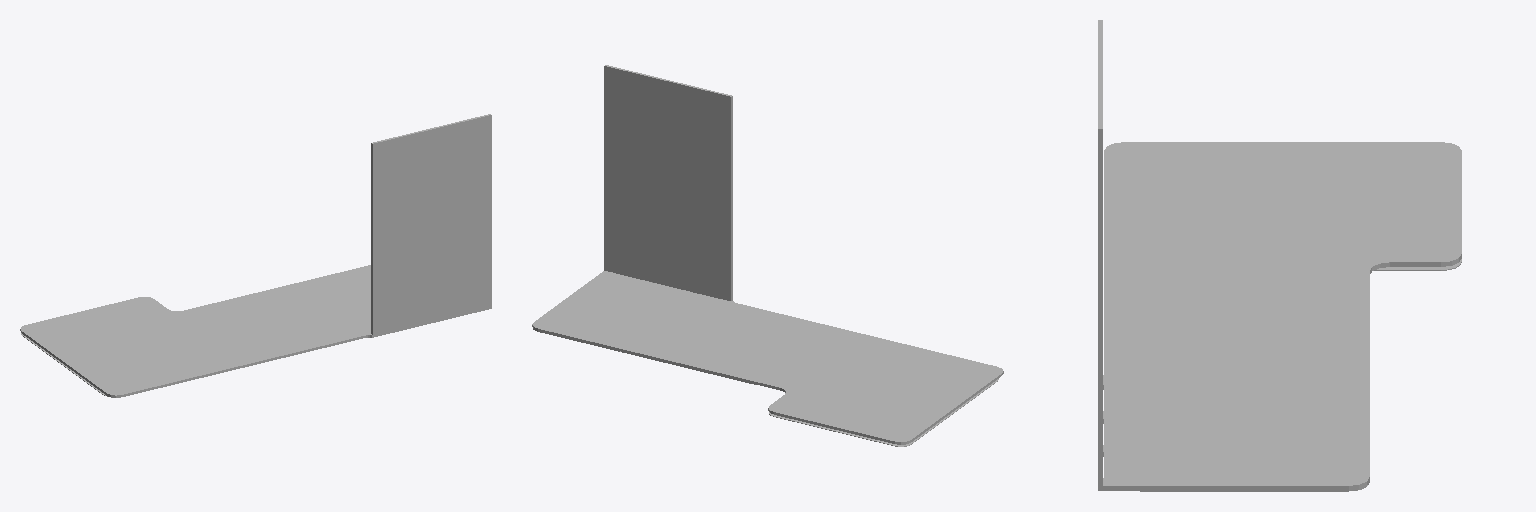
robot.urdf — stickers:
<?xml version="1.0" encoding="utf-8"?>
<!-- This URDF was automatically created by SolidWorks to URDF Exporter! Originally created by [author] ([email redacted]) 
     Commit Version: 1.6.0-4-g7f85cfe  Build Version: 1.6.7995.38578
     For more information, please see http://wiki.ros.org/sw_urdf_exporter -->
<robot name="stickers">  
  <link name="stickers">
    <inertial>
      <origin
        xyz="-0.00691469376494203 0.00230476322235823 0.00114096247538141"
        rpy="0 0 0" />
      <mass
        value="1.47783924030024E-05" />
      <inertia
        ixx="5.34970191893634E-11"
        ixy="1.71067678641814E-11"
        ixz="-5.50258510119808E-22"
        iyy="2.36691871782851E-10"
        iyz="2.48491813078755E-22"
        izz="2.52128898389789E-10" />
    </inertial>
    <visual>
      <origin xyz="0 0 0" rpy="0 0 0" />
      <geometry>
        <mesh
          filename="package://stickers/meshes/stickers.dae" />
      </geometry>
      <material
        name="">
        <color
          rgba="0.752941176470588 0.752941176470588 0.752941176470588 1" />
      </material>
    </visual>
    <collision>
      <origin xyz="0 0 0" rpy="0 0 0" />
      <geometry>
        <mesh
          filename="package://stickers/meshes/stickers.obj" />
      </geometry>
    </collision>
  </link>
</robot>

--- Facts derived from the render (not from the file) ---
3 views of the same robot in one strip: view 1: azimuth 30°, elevation 25°; view 2: azimuth 150°, elevation 25°; view 3: azimuth 270°, elevation 25° (orthographic).
Model stickers with 1 links and 0 joints (none), rooted at stickers, posed every joint at zero.
Visible links, largest first — view 1: stickers; view 2: stickers; view 3: stickers.
Boxes of the visible links, x1=… form: stickers: x1=20, y1=114, x2=491, y2=397; stickers: x1=532, y1=65, x2=1003, y2=446; stickers: x1=1098, y1=20, x2=1461, y2=491.
Size in the robot's own frame: 0.0159 by 0.0071 by 0.0079 metres.
1 mesh visuals loaded from 1 distinct referenced files (1 Collada DAE).